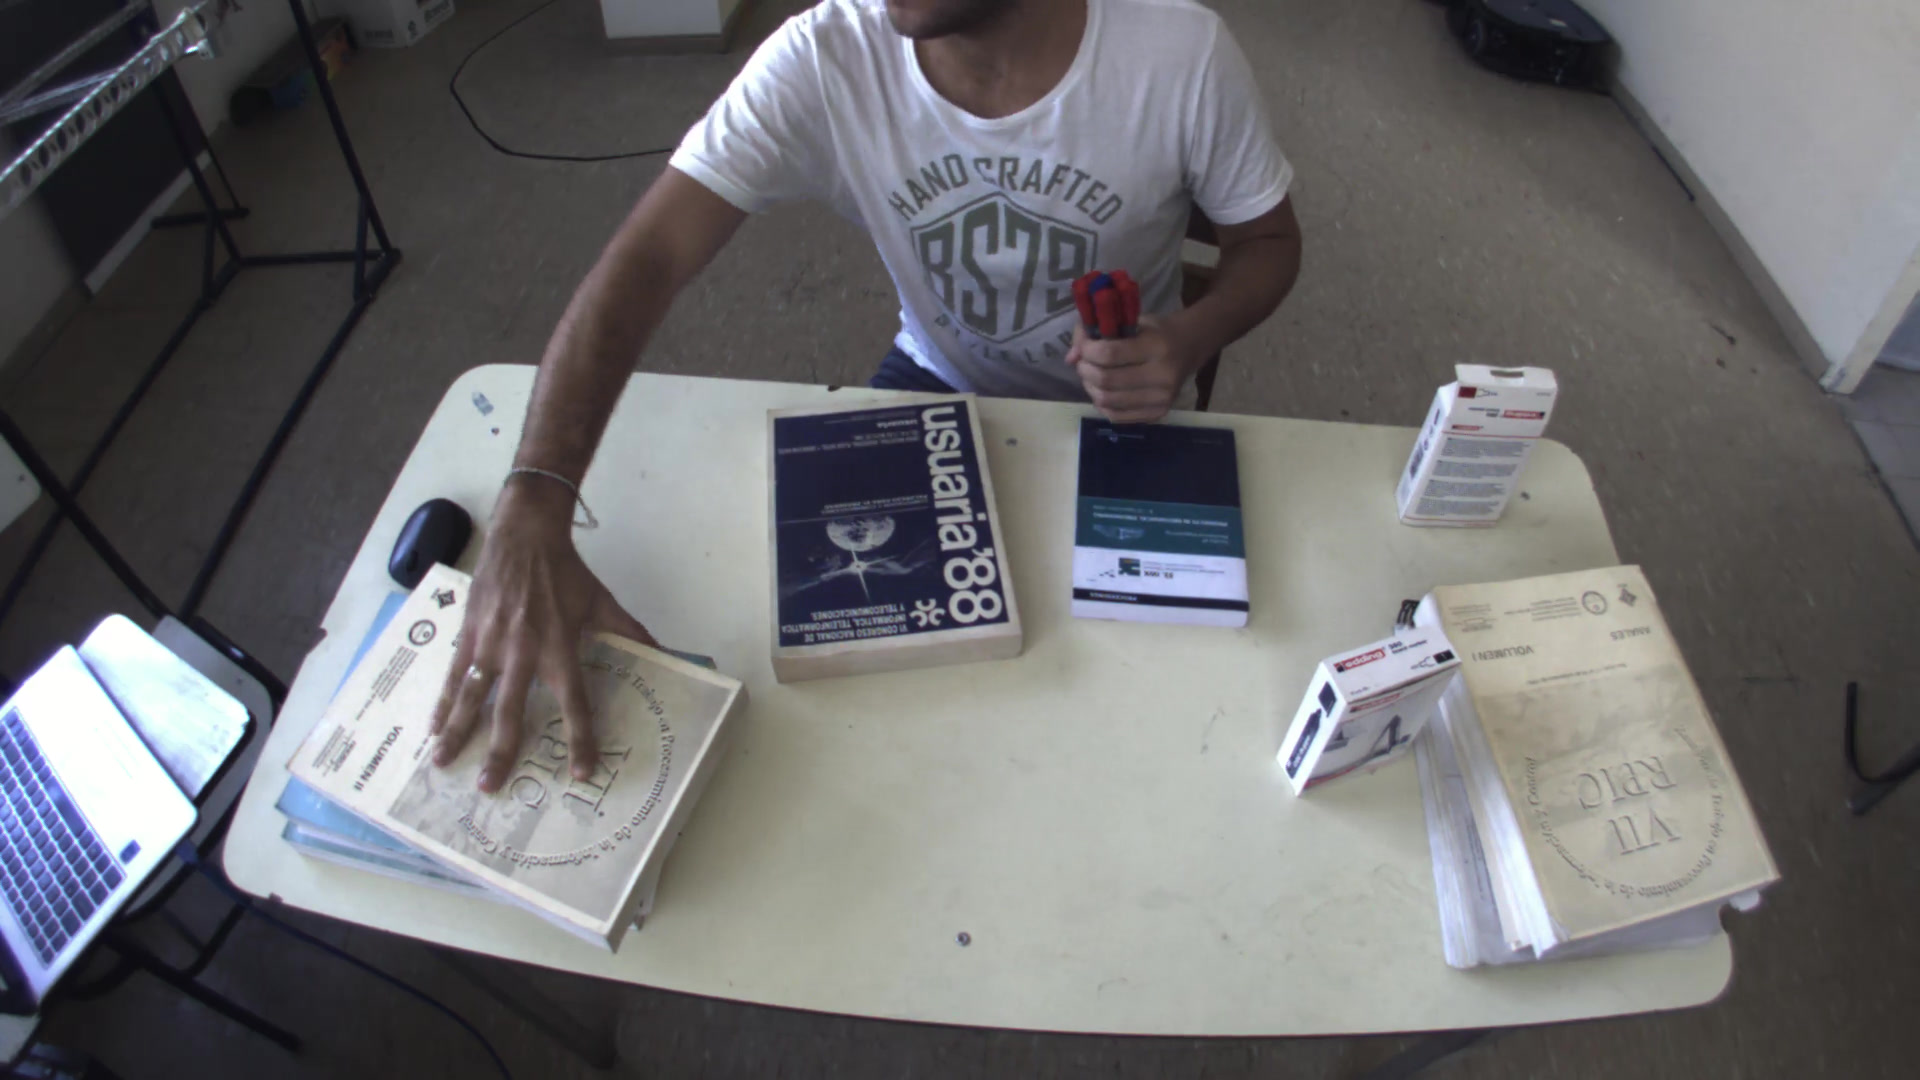hand: (429, 512, 647, 811), (1055, 266, 1209, 436)
